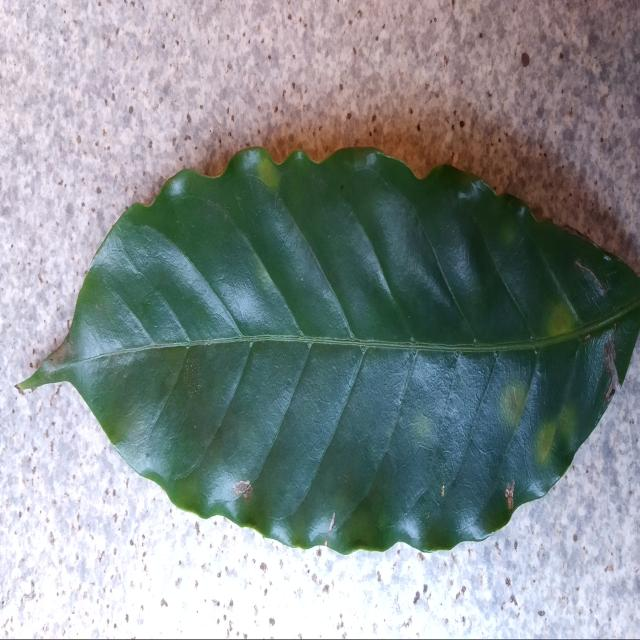Enfermedad-Roya: (18, 148, 640, 556)
